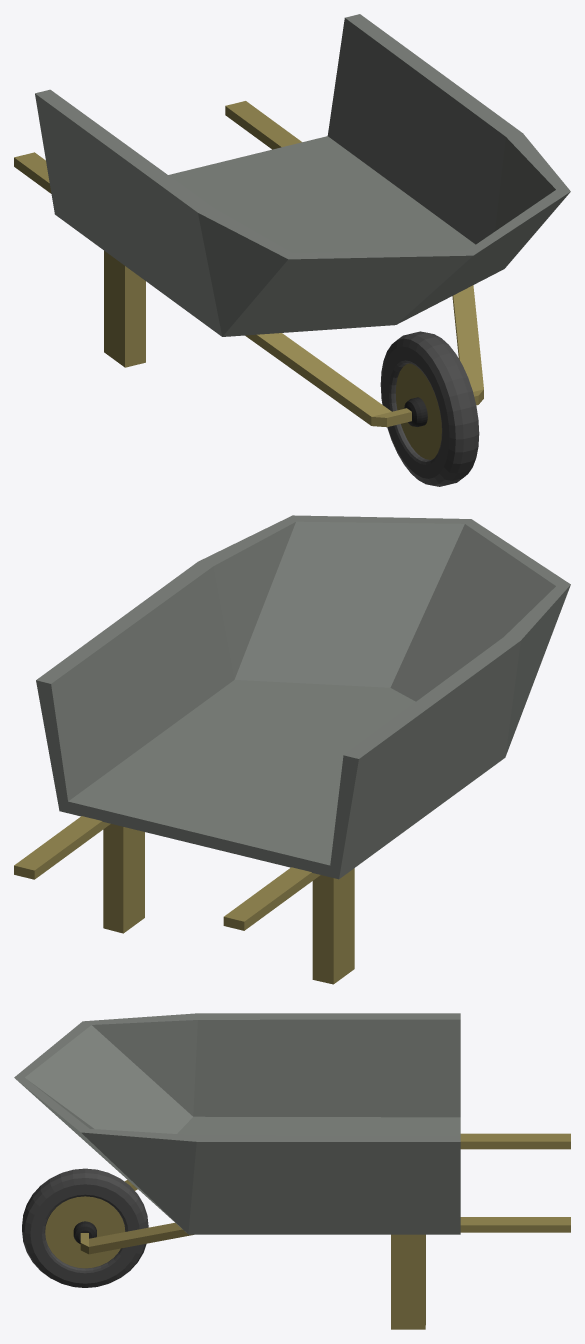
Rendered from wheelbarrow02.fbx.
3 views of the same model, one above another, from view 1: azimuth 30°, elevation 25°; view 2: azimuth 150°, elevation 25°; view 3: azimuth 270°, elevation 25° (orthographic). The views are drawn at different scales.
Visible parts, largest first — view 1: Cylinder.001, Cylinder.015; view 2: Cylinder.001; view 3: Cylinder.001, Cylinder.015.
Part boxes in pixels (x1,y1,x2,y2): Cylinder.001: (14, 14, 570, 427); Cylinder.015: (380, 331, 479, 486); Cylinder.001: (14, 515, 570, 984); Cylinder.001: (14, 1013, 570, 1329); Cylinder.015: (22, 1168, 148, 1287).
Size of the model in its own units: 0.7734 by 0.5836 by 1.42.
